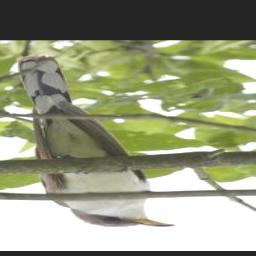Cuckoo: (17, 55, 178, 229)
